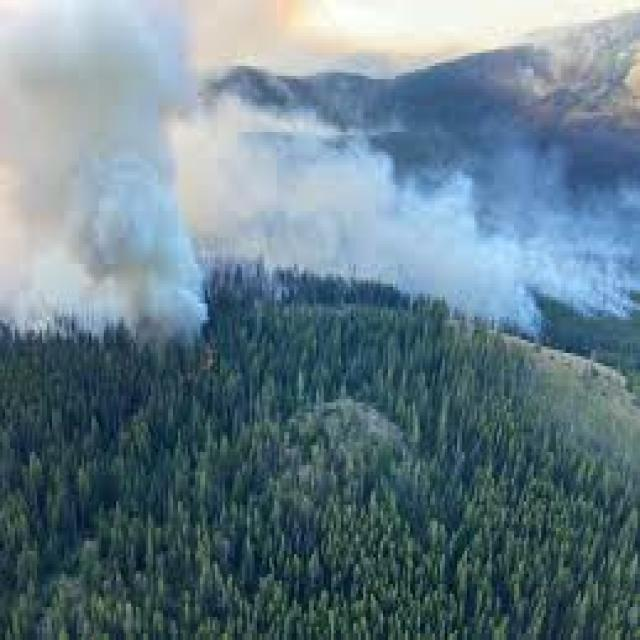Smoke: (0, 94, 557, 352), (0, 140, 640, 322), (0, 0, 214, 357)
